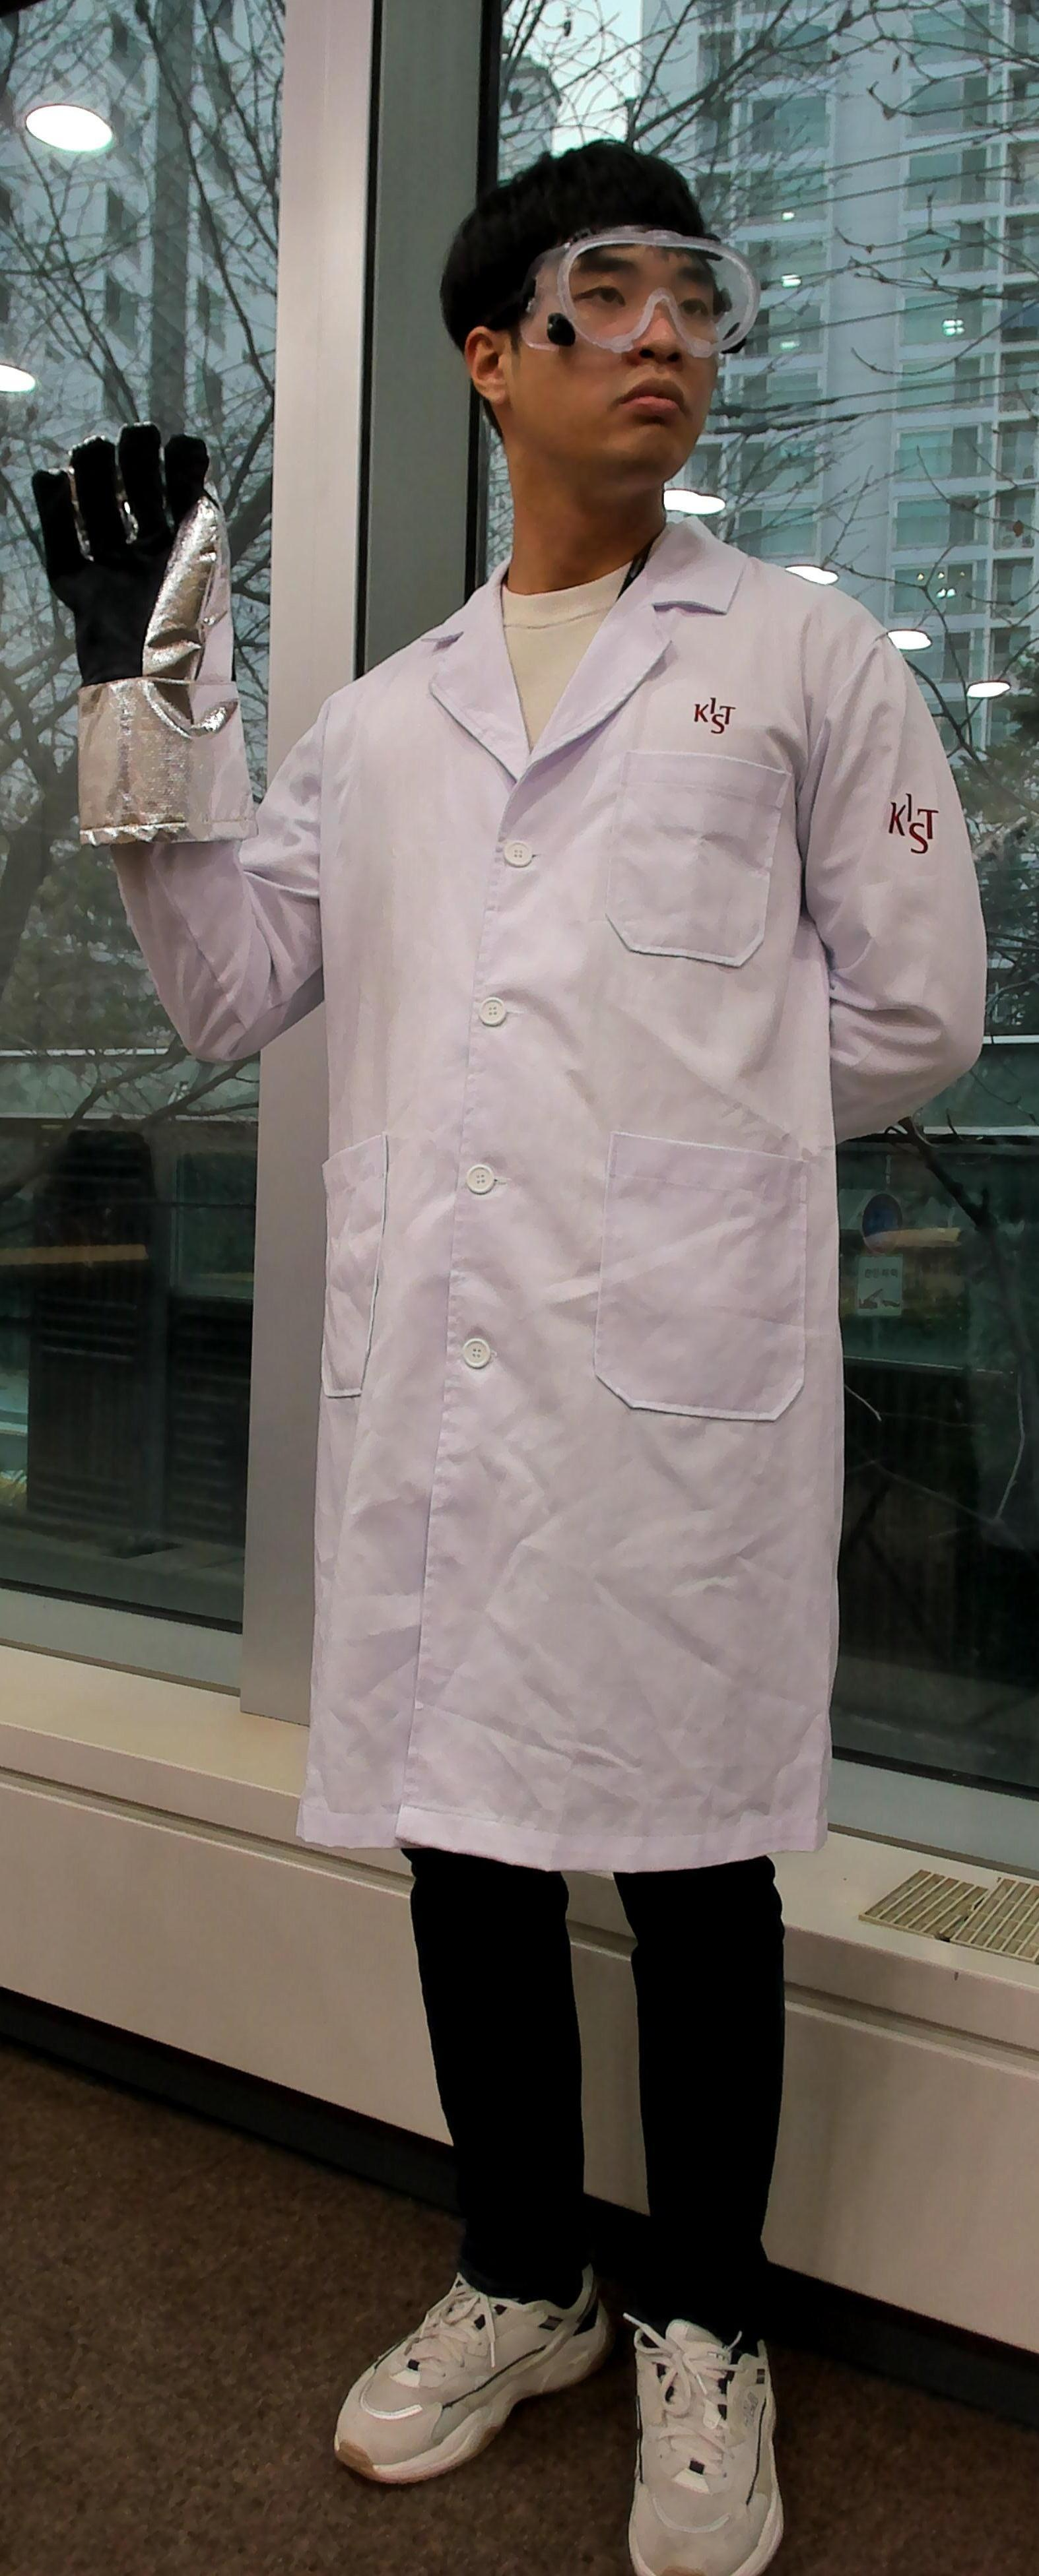lab_coat: (306, 641, 852, 1815)
